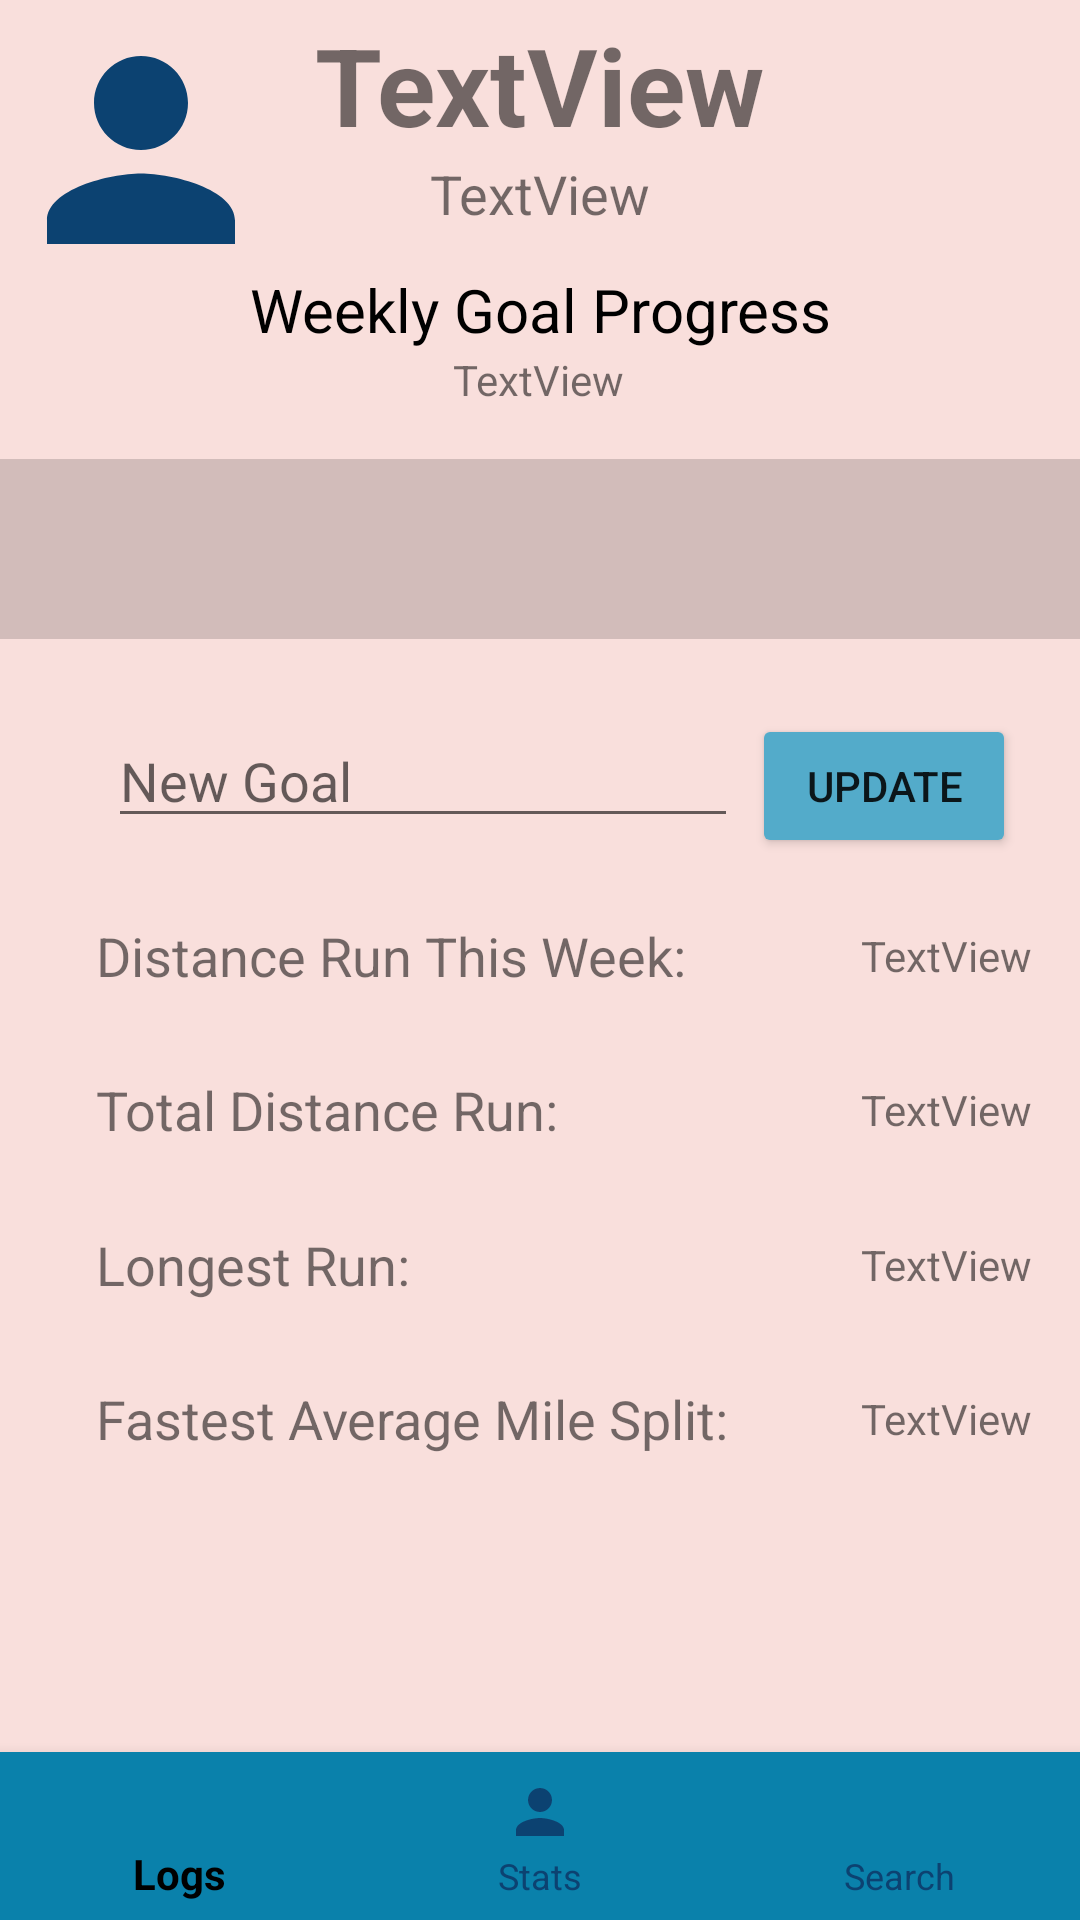

Point at icon controls on the screen. Image size 1080 x 1920, points as point (x, y).
person: point (141, 150)
